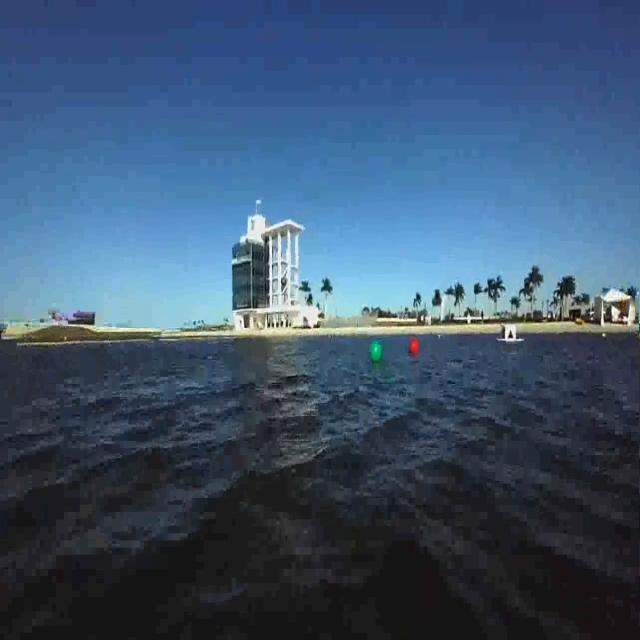green-buoy: (369, 342, 382, 364)
red-buoy: (411, 339, 420, 357)
